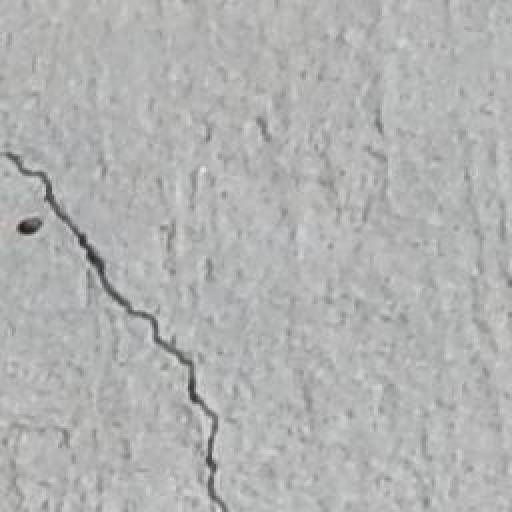spalling: (6, 140, 242, 497)
